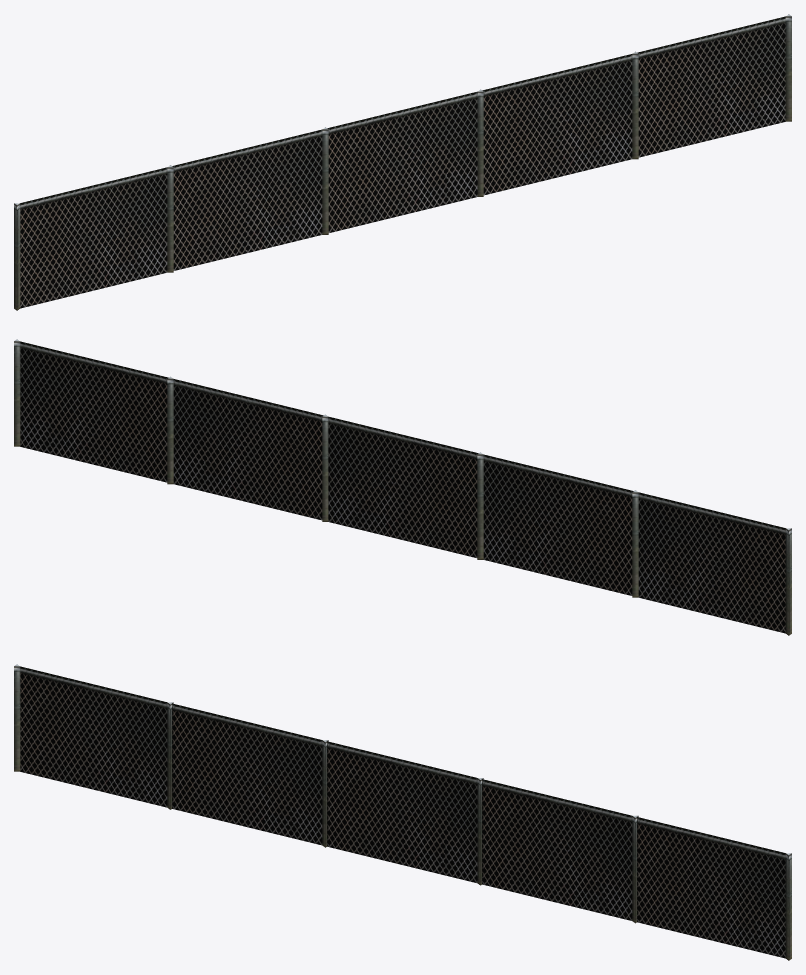
Rendered from fence10m.fbx.
3 renders of one model, top to bottom at view 1: azimuth 30°, elevation 25°; view 2: azimuth 150°, elevation 25°; view 3: azimuth 330°, elevation 25°, orthographic.
Visible parts, largest first — view 1: mesh_0, mesh_1; view 2: mesh_0, mesh_1; view 3: mesh_0, mesh_1.
Boxes of the visible parts, left/top/right/bottom form: mesh_0: left=20, top=16, right=785, bottom=308; mesh_1: left=14, top=14, right=791, bottom=310; mesh_0: left=20, top=341, right=785, bottom=633; mesh_1: left=14, top=339, right=791, bottom=635; mesh_0: left=20, top=666, right=785, bottom=958; mesh_1: left=14, top=664, right=791, bottom=960.
Bounding box in the file's own units: 1000 × 130 × 6.93.
1 material, 1 textured.
